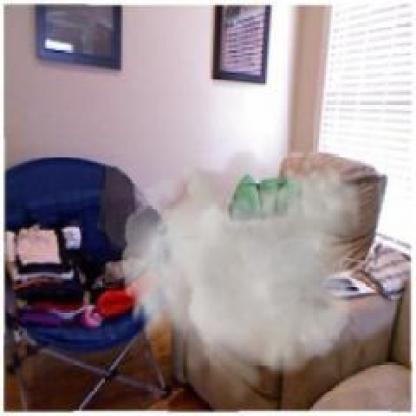Smoke: (121, 154, 363, 409)
